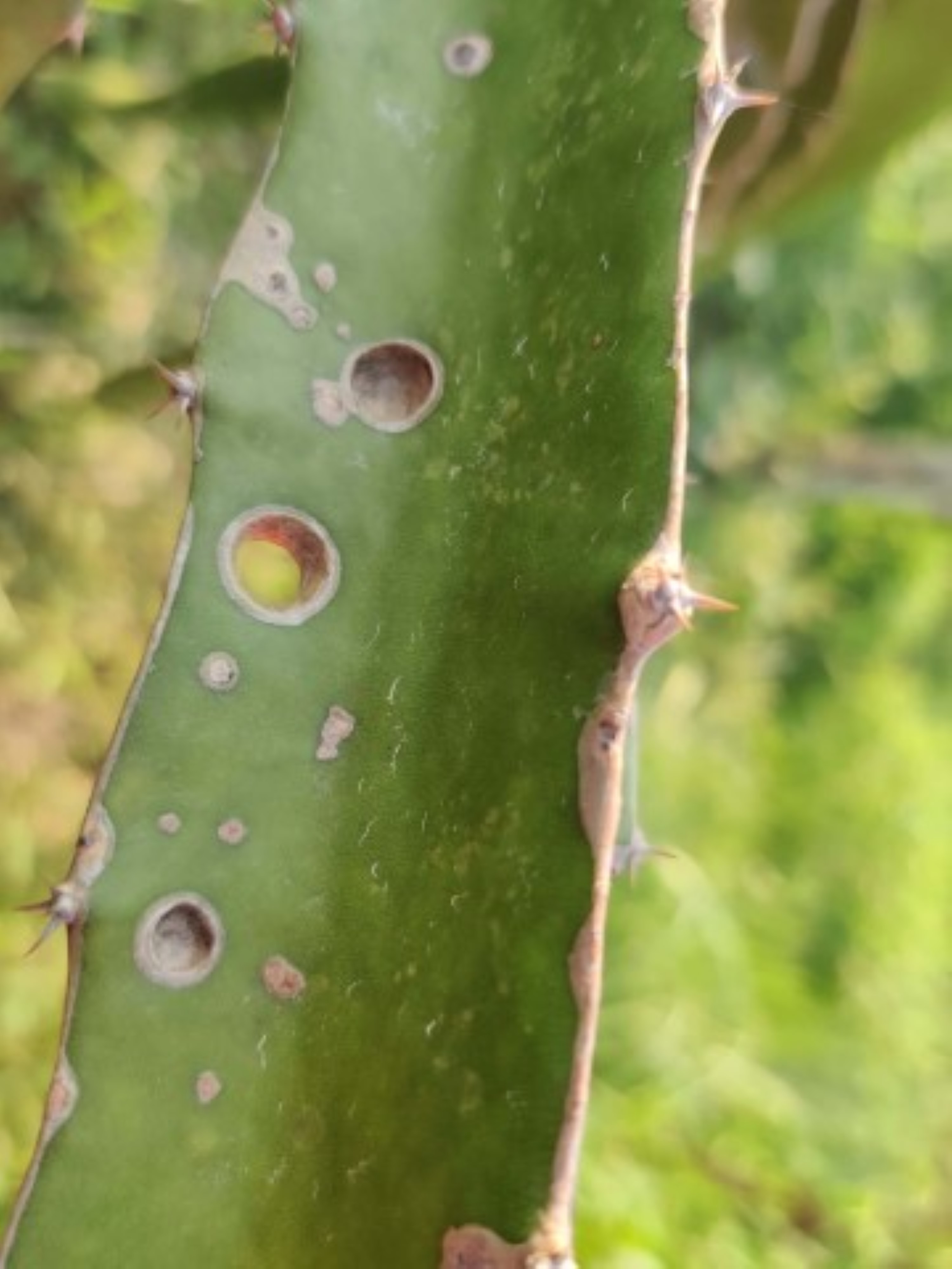stemcanker: (216, 498, 347, 628), (337, 339, 449, 434), (137, 884, 229, 989), (445, 31, 496, 82)
